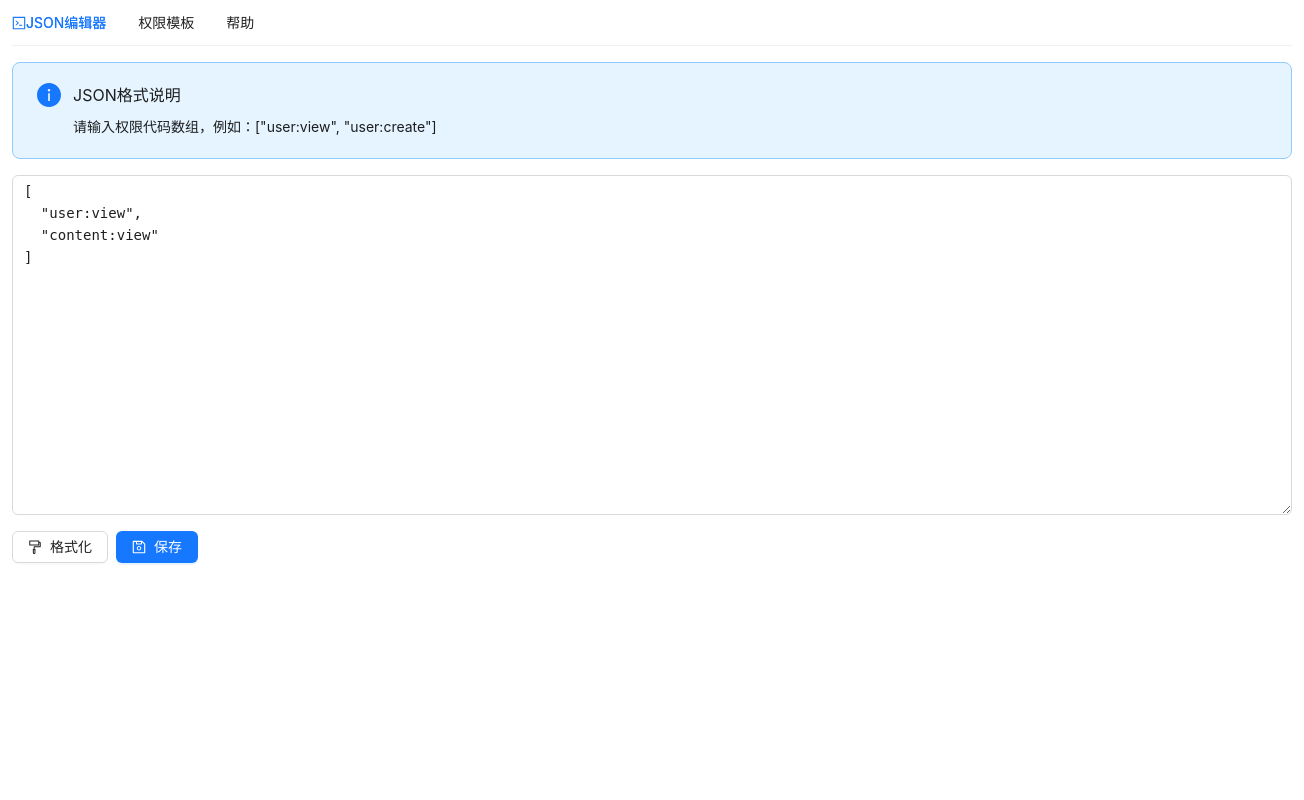
Test: PermissionConfigEditor › should show error for invalid permissions in JSON
Replace the text in the text box with placeholder "[\"permission1\", \"permission2\"]" with "[\"nonexistent:perm\"]": (652, 345) 12,175 -> 1292,515
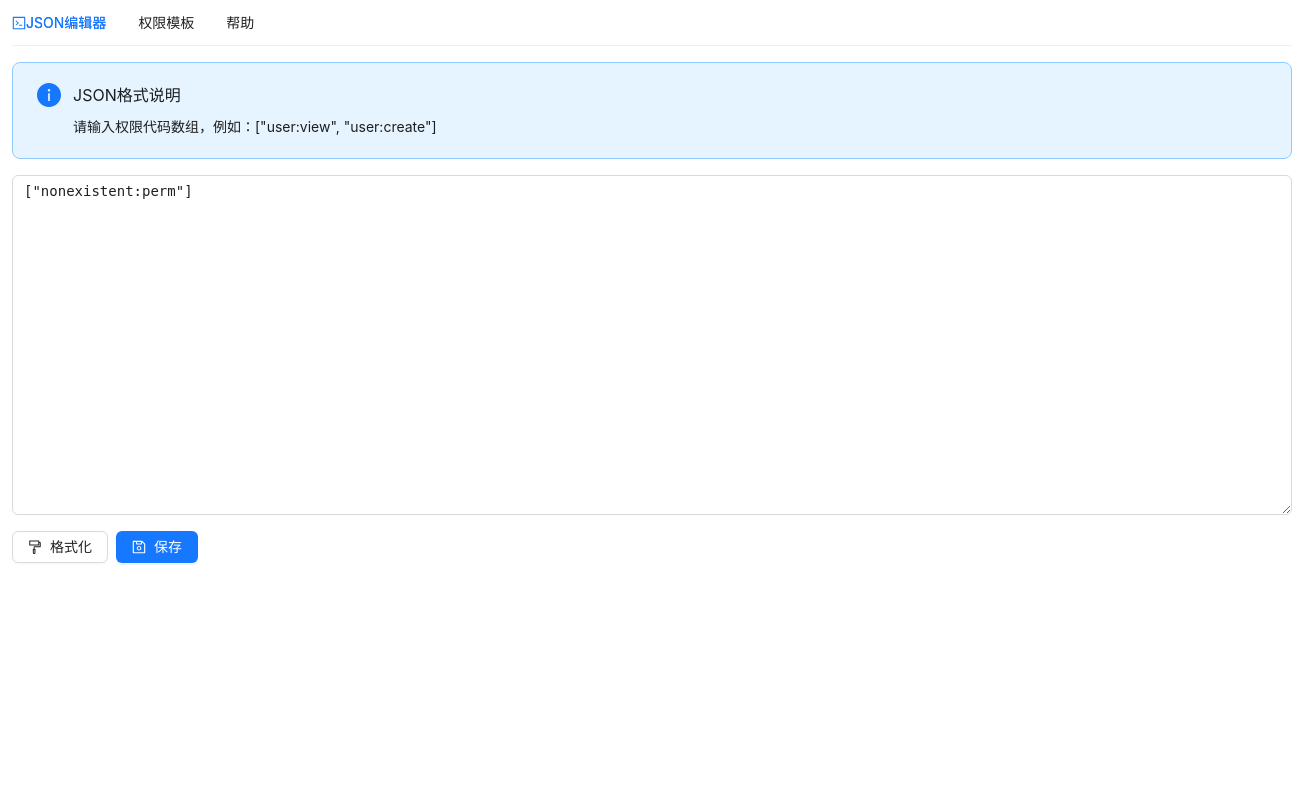
Click the button "保存": (157, 547) 116,531 -> 198,563
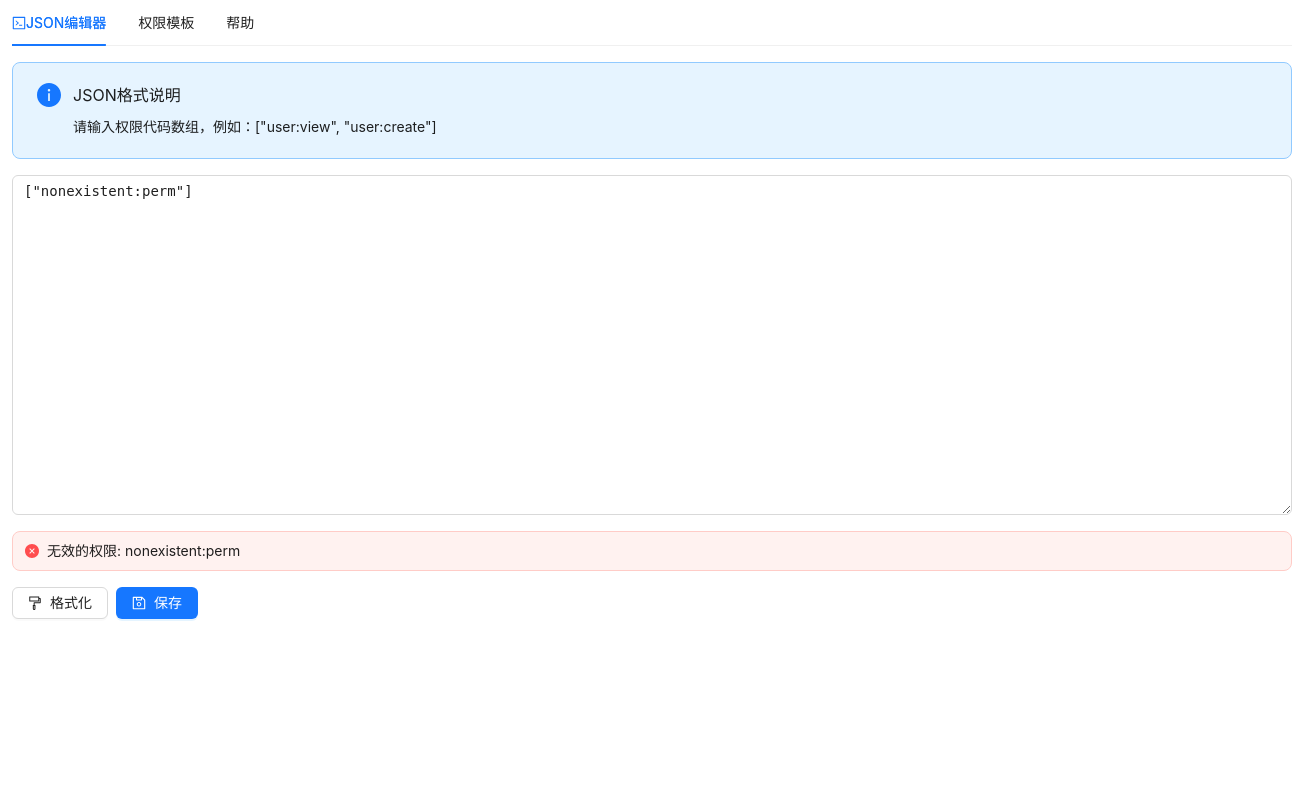
Now the text "无效的权限: nonexistent:perm" is shown, box 47,542 -> 240,559
